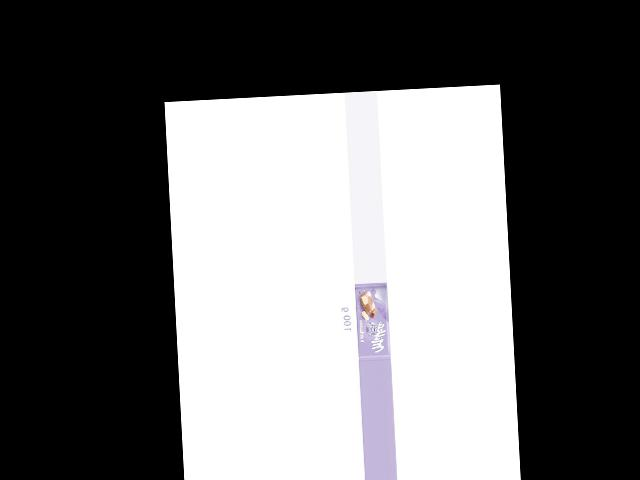chocolate: (349, 281, 391, 361)
